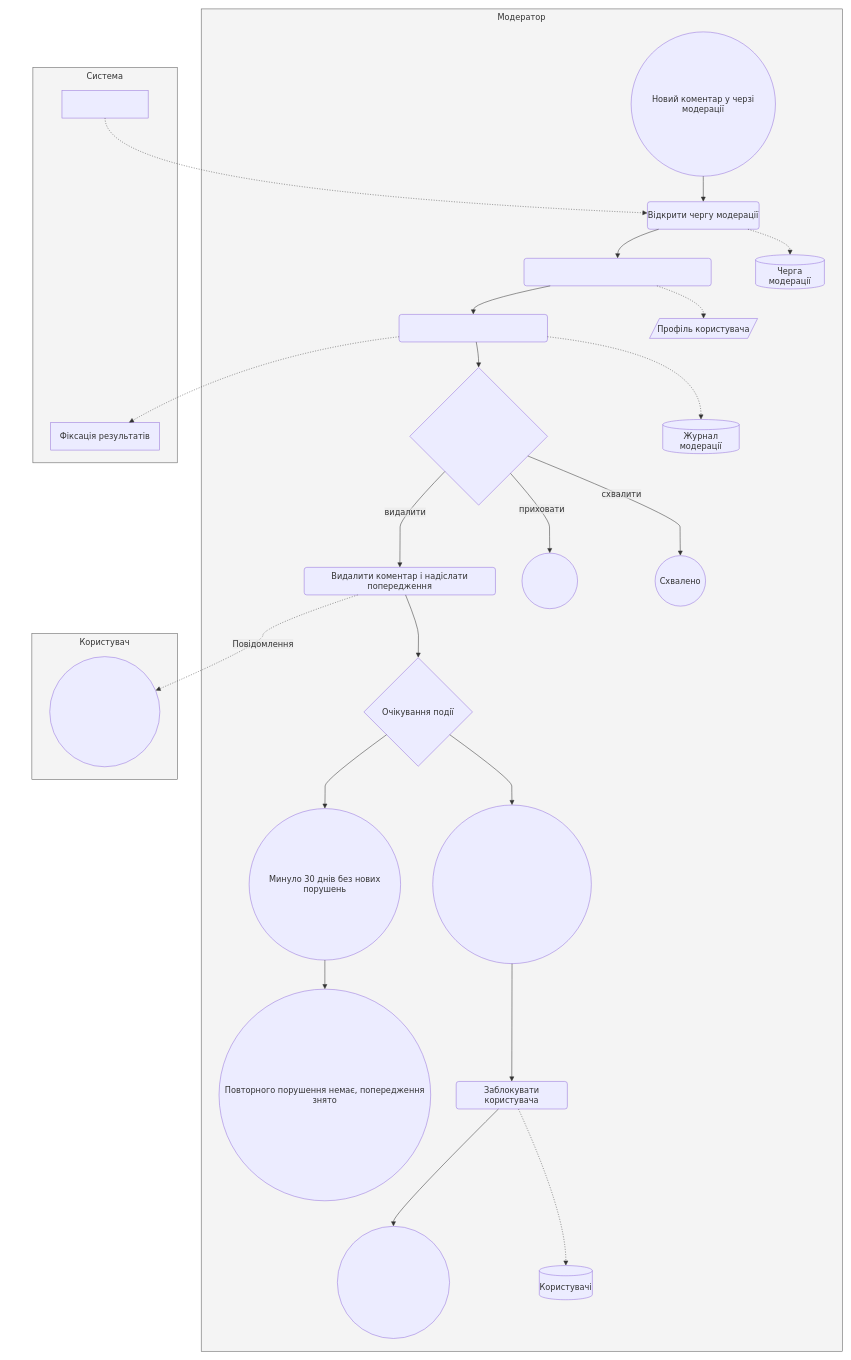
The diagram is 851 pixels wide and 1360 high, and some of its shapes have lost their labels. Here are the shapes that lost their labels. From the top down, the centre of each, then its label:
At pixel 104 104: "Обробка черги".
At pixel 617 272: "Прочитати коментар і репутацію користувача".
At pixel 473 328: "Зробити запис у журналі модерації".
At pixel 478 436: "Рішення модератора?".
At pixel 549 581: "Приховано".
At pixel 104 711: "Отримано попередження".
At pixel 511 884: "Надійшла нова скарга на користувача".
At pixel 393 1282: "Користувача заблоковано".
